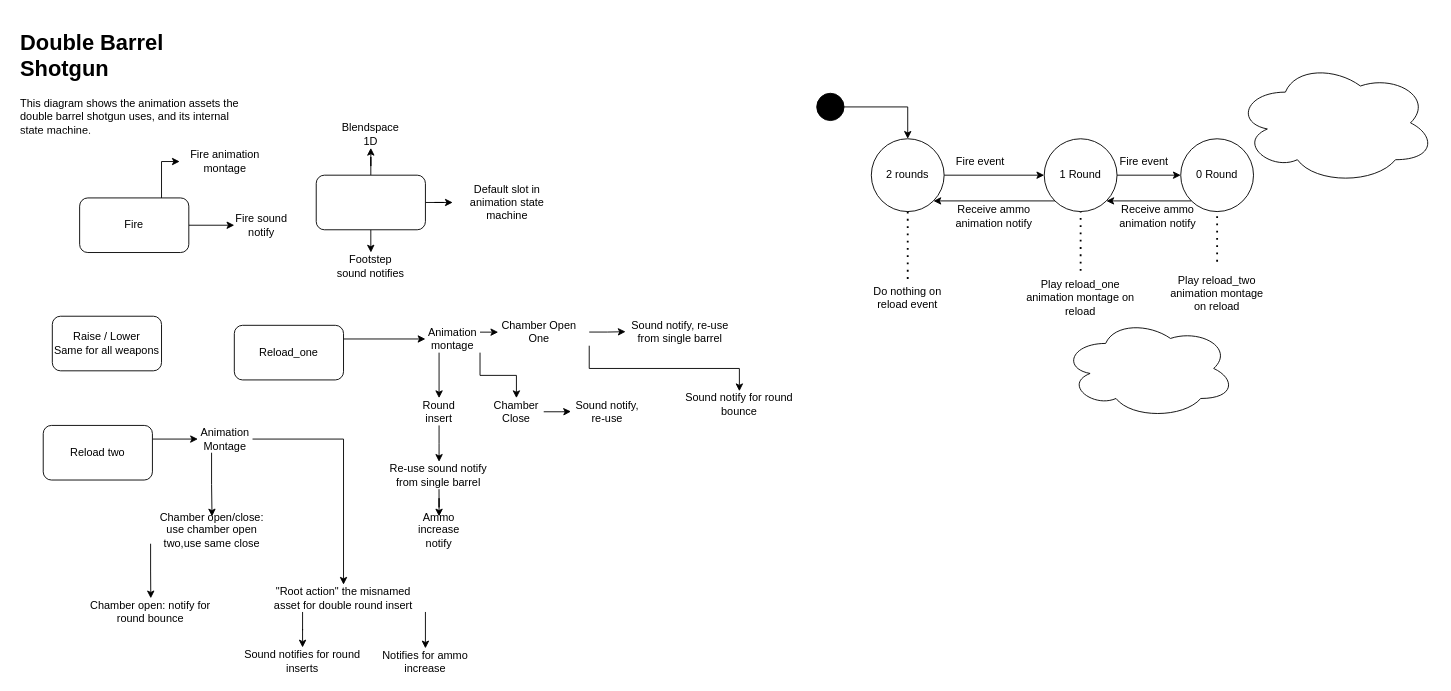
This 1451x691 diagram has some shape labels left out. The shapes that lost their labels are listed below. From the top down, each one's centre as x and y in pixels, then its label:
At pixel 1335 122: "If reserve ammo == 1 play reload_one instead".
At pixel 370 202: "Movement".
At pixel 1148 368: "If reserve ammo == 0 Do nothing on reload event".
